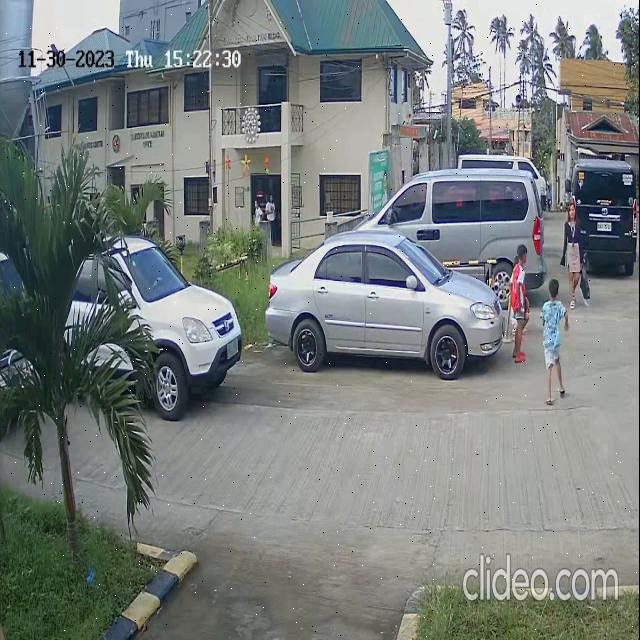garbage_dumping: (579, 258, 592, 301)
